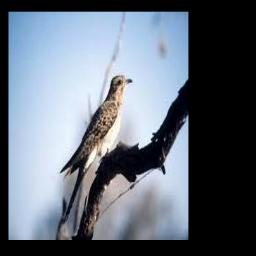Cuckoo: (60, 75, 132, 223)
